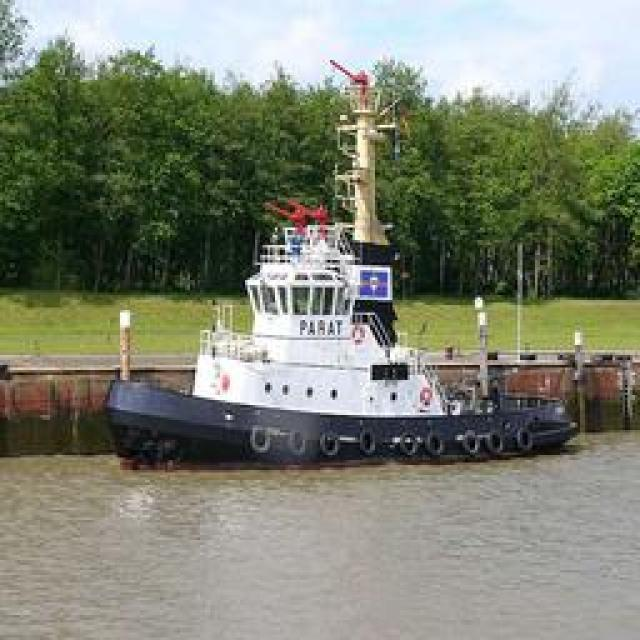CIV_Ship: (108, 174, 580, 464)
